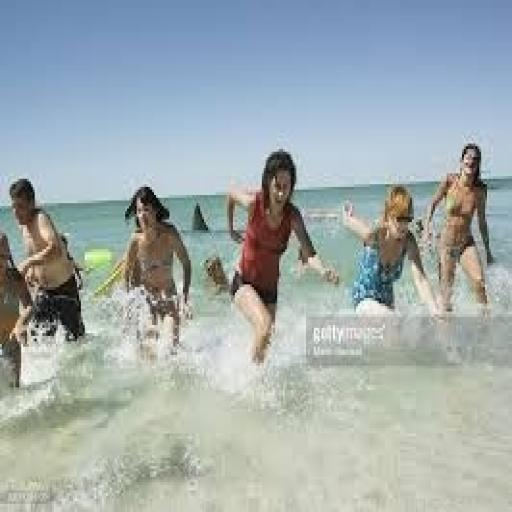running: (202, 146, 341, 371), (4, 173, 88, 347), (339, 182, 441, 322), (420, 138, 496, 320)
